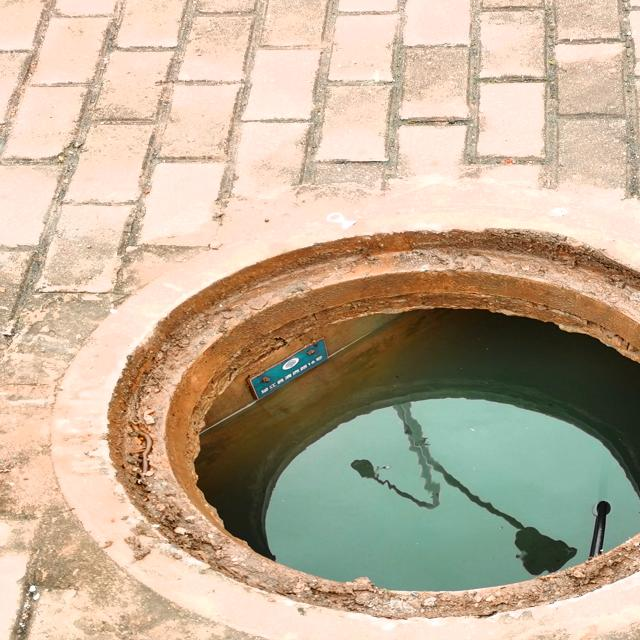lose: (45, 206, 640, 640)
